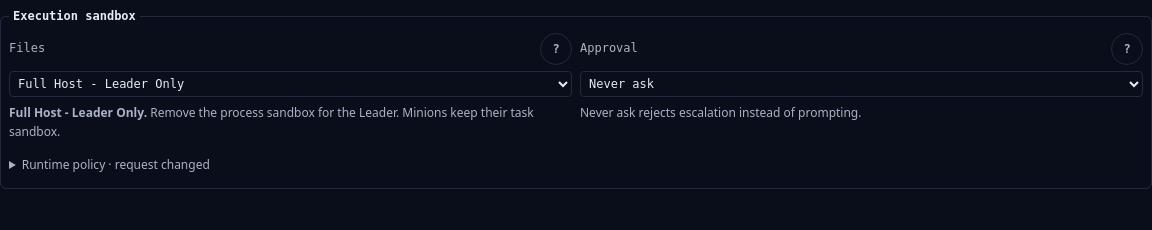
SandboxPolicyControls › does not imply an old effective resolution enforces a changed request
The width and height of the screenshot is (1152, 230).
What coordinates should you click on to do the following:
click the heading "Runtime policy · request changed"
I would click on:
 (116, 165)
Its box is [22, 156, 210, 173].
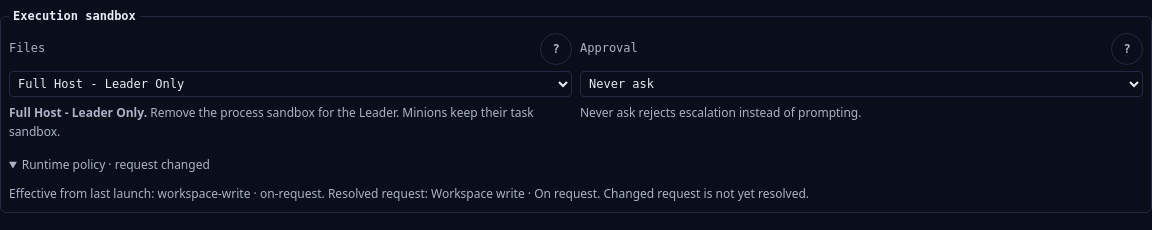
Check: the text "Effective from last launch:" is shown, box [9, 185, 158, 202]
Check: the text "Changed request is not yet resolved" is shown, box [322, 185, 809, 202]
